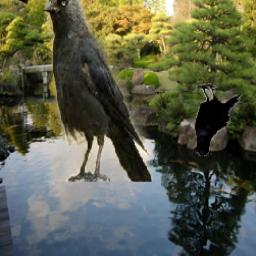Crow: (45, 0, 153, 183), (191, 83, 242, 156)
